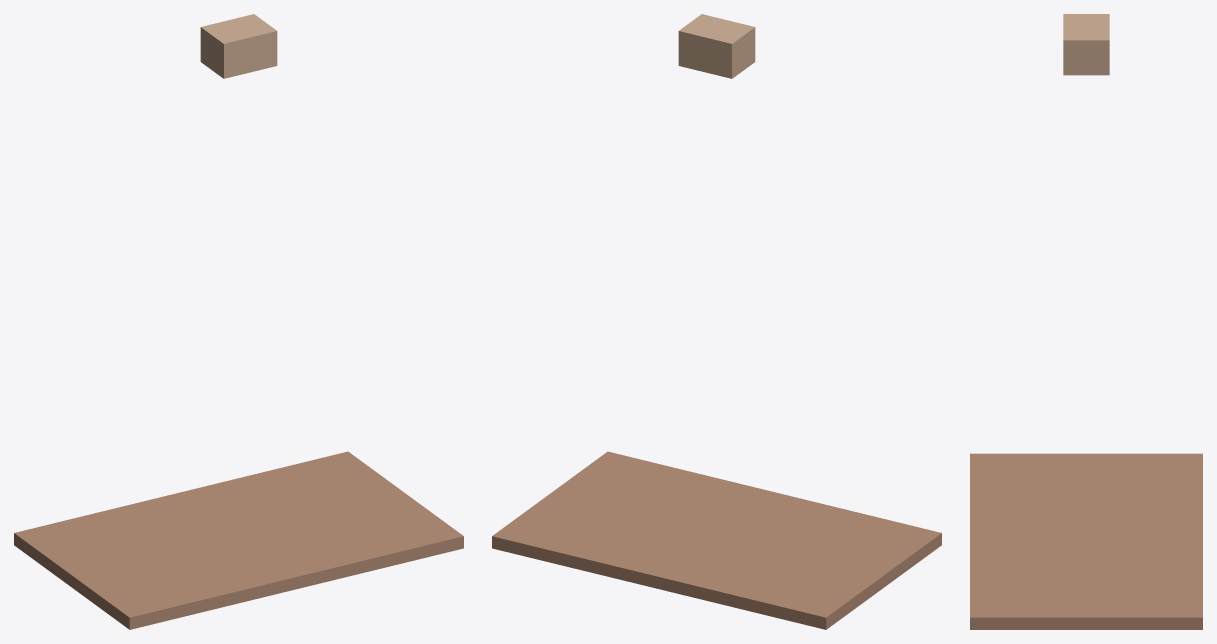
The model's file is exploded.glb.
3 views of the same model, side by side, from view 1: azimuth 30°, elevation 25°; view 2: azimuth 150°, elevation 25°; view 3: azimuth 270°, elevation 25° (orthographic).
Parts seen in each view (by area): view 1: substrate_Condensation_keeps_forming_inside, 01_unspecified_subsystem; view 2: substrate_Condensation_keeps_forming_inside, 01_unspecified_subsystem; view 3: substrate_Condensation_keeps_forming_inside, 01_unspecified_subsystem.
Part boxes in pixels (x1,y1,x2,y2): substrate_Condensation_keeps_forming_inside: (14,451,463,629); 01_unspecified_subsystem: (200,14,277,78); substrate_Condensation_keeps_forming_inside: (492,451,941,629); 01_unspecified_subsystem: (678,14,755,78); substrate_Condensation_keeps_forming_inside: (970,453,1202,629); 01_unspecified_subsystem: (1063,14,1109,75).
Bounding box in the file's own units: 5 × 7.4 × 3.
